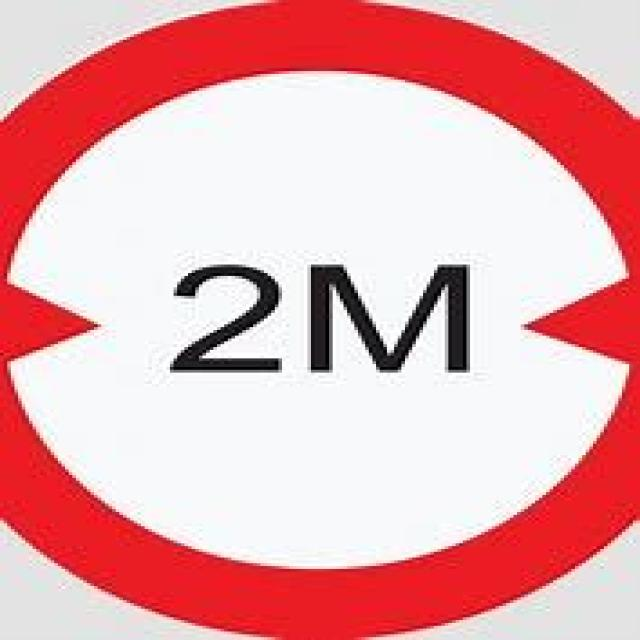do_not_u_turn: (0, 0, 636, 637)
